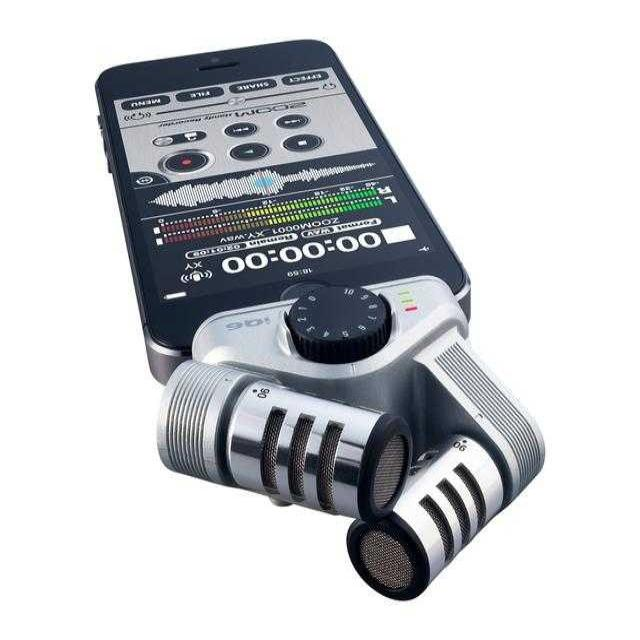microphone: (158, 358, 400, 520), (358, 436, 504, 596)
